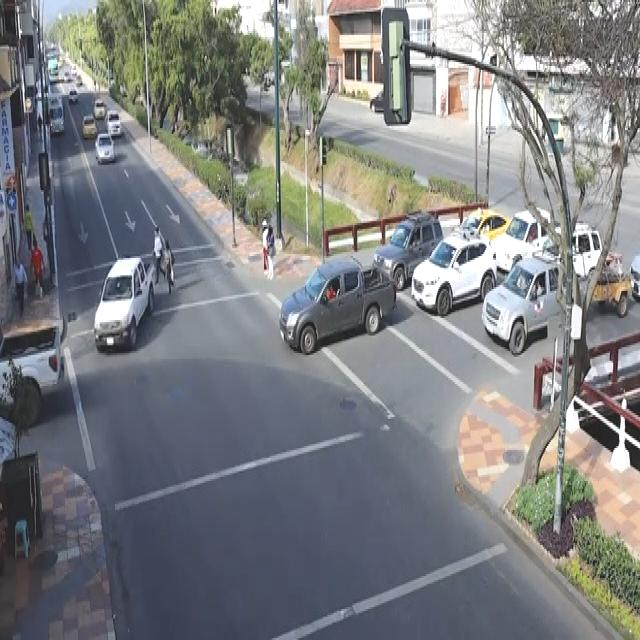CMT: (286, 262, 401, 349), (95, 257, 157, 351)
